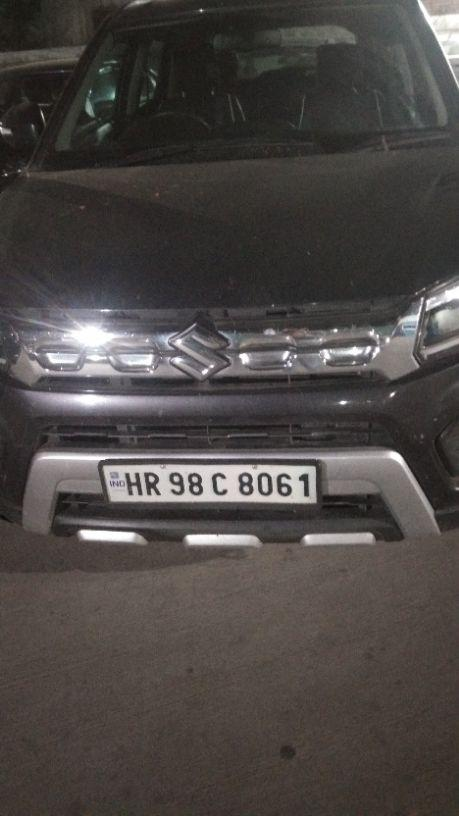license_plate: (97, 456, 322, 508)
